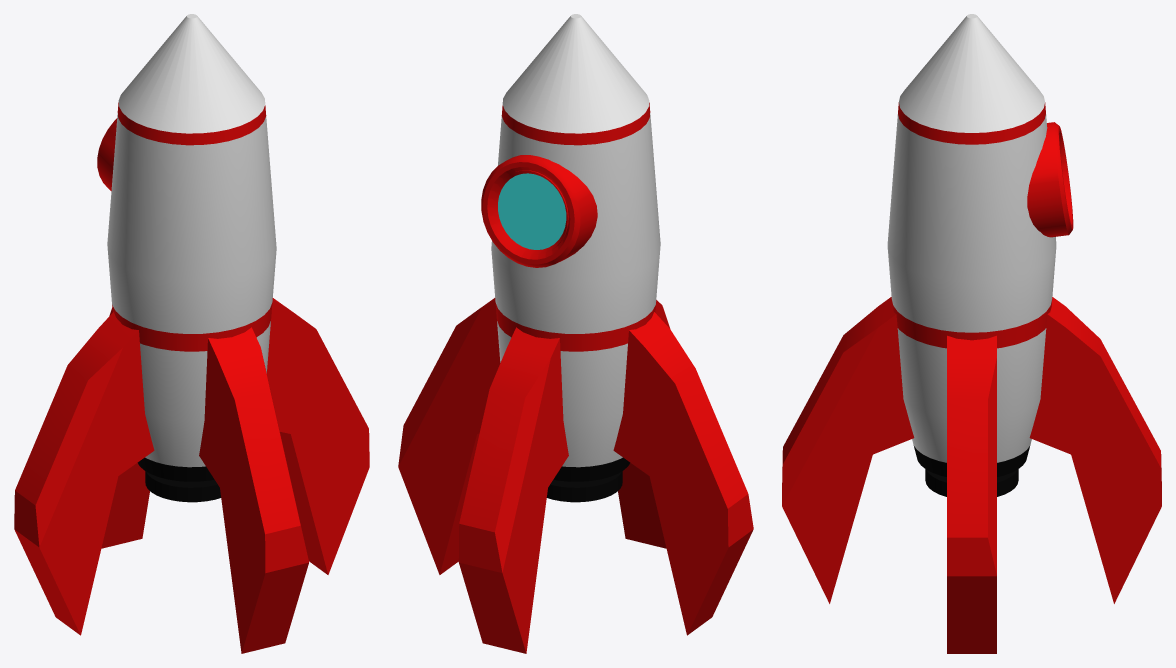
File: rocket1.fbx
The picture shows the model from 3 angles, left to right: view 1: azimuth 30°, elevation 25°; view 2: azimuth 150°, elevation 25°; view 3: azimuth 270°, elevation 25°; orthographic projection.
Parts seen in each view (by area): view 1: Cylinder; view 2: Cylinder; view 3: Cylinder.
Boxes of the visible parts, <box> form: Cylinder: <box>14,14,369,653</box>; Cylinder: <box>398,14,753,653</box>; Cylinder: <box>782,14,1161,653</box>.
Size of the model in its own units: 519 by 871 by 519.
